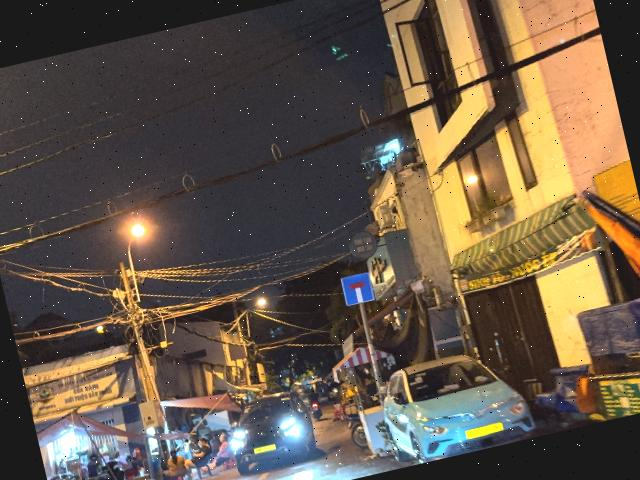duong-cut: (340, 272, 374, 306)
